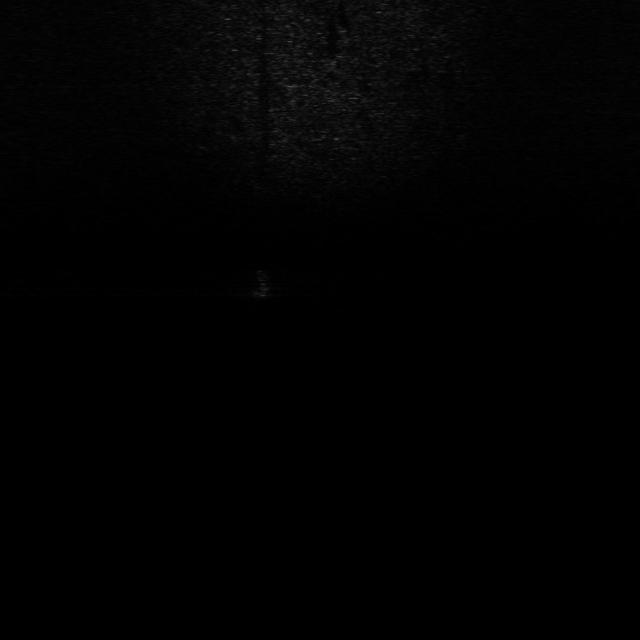human body: (248, 263, 276, 308)
